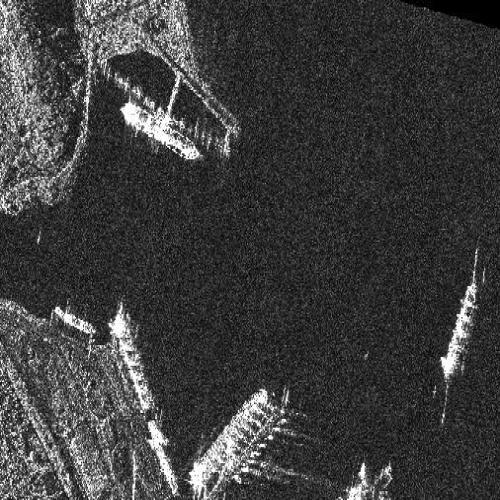ship: (189, 389, 267, 499), (111, 307, 155, 417), (120, 100, 201, 159), (443, 282, 477, 383), (147, 420, 179, 496), (52, 304, 96, 333)
